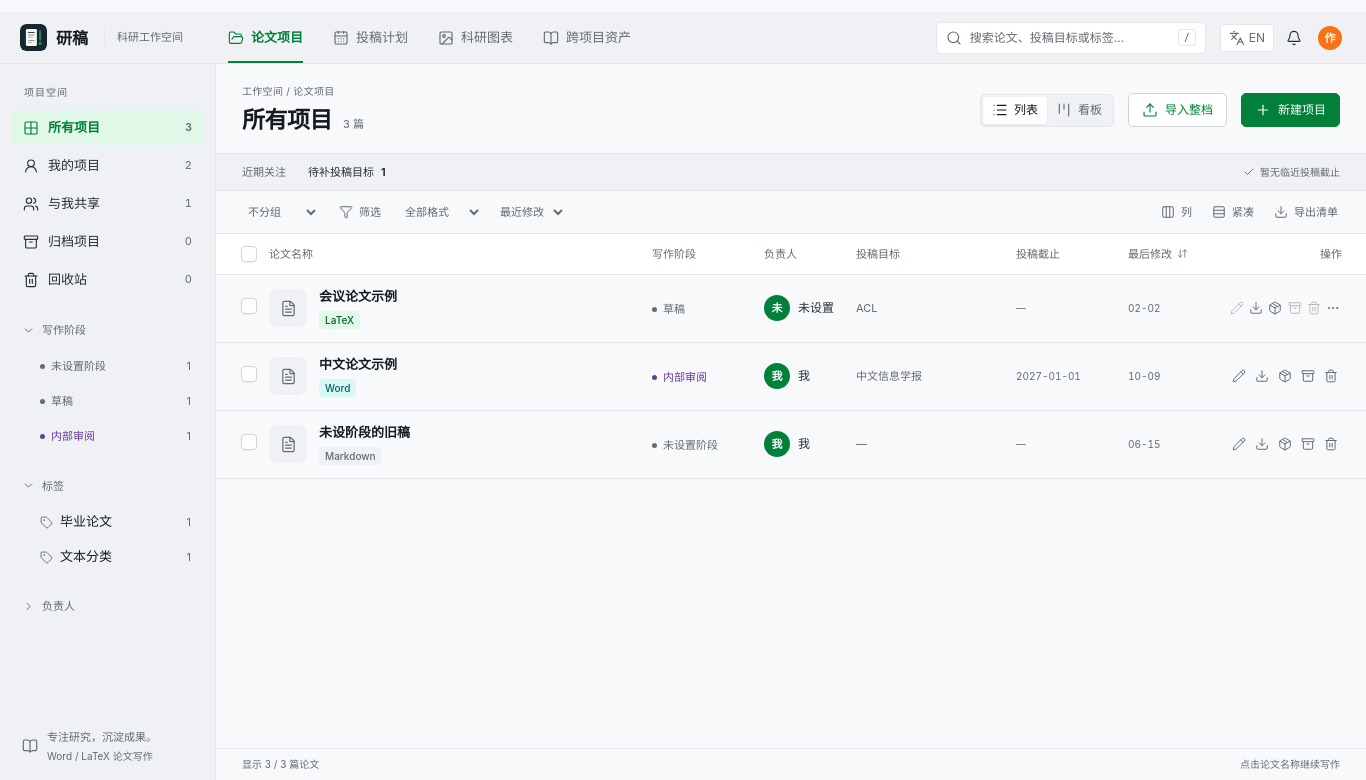
按格式筛选、按投稿目标分组，搜索可定位论文标签
Later steps or results of the test are not shown.
Select "Word" in the dropdown named "文档类型" at (438, 212), box [395,198,482,226]
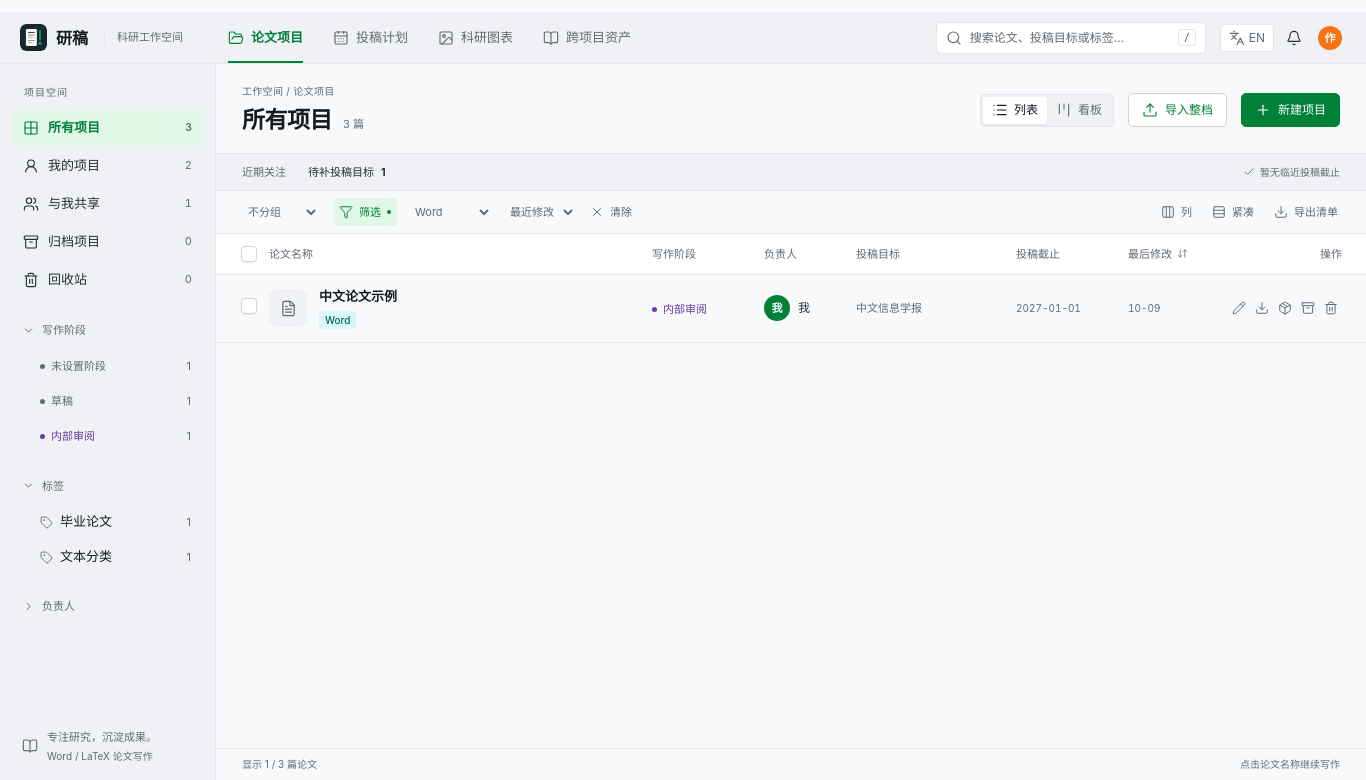
Select "按投稿目标" in the dropdown named "分组方式" at (282, 212), box [244,200,319,224]
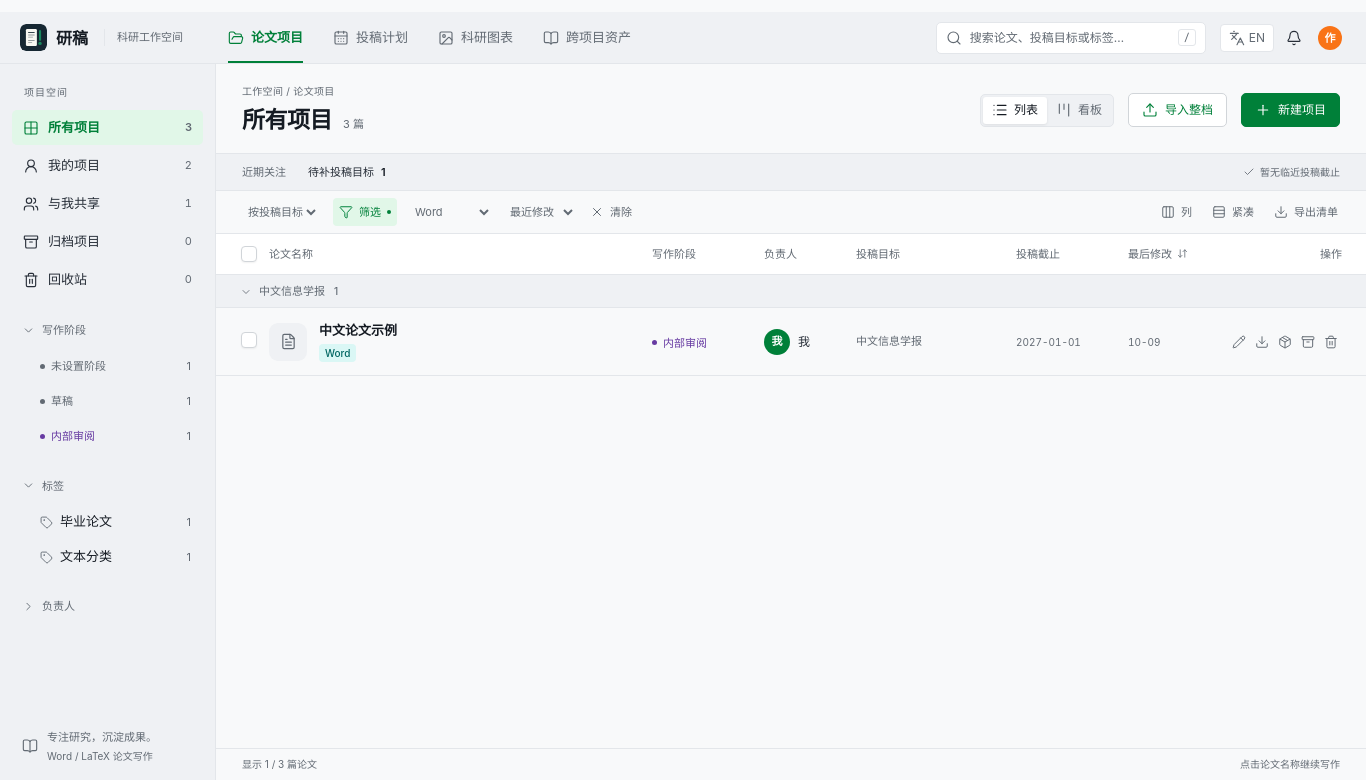
Check: the row "中文信息学报1" is shown, box [216,274,1365,308]
